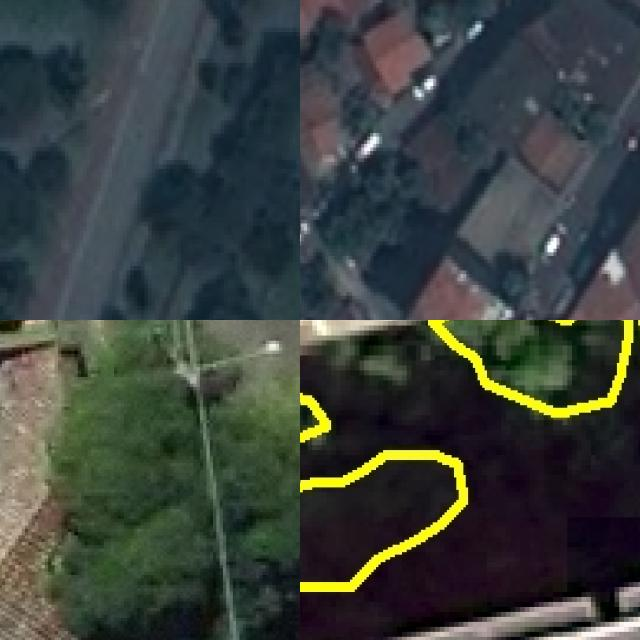trees: (146, 1, 301, 321), (52, 355, 217, 640), (301, 453, 464, 588), (431, 321, 630, 414), (214, 391, 301, 571), (317, 152, 413, 266), (1, 46, 48, 137), (1, 148, 41, 249), (301, 252, 335, 321)
